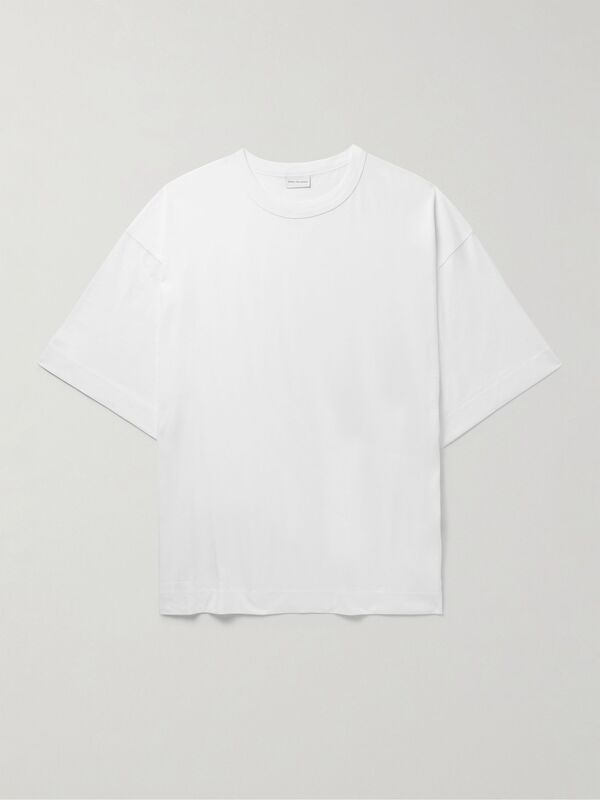tshirt: (34, 139, 564, 623)
